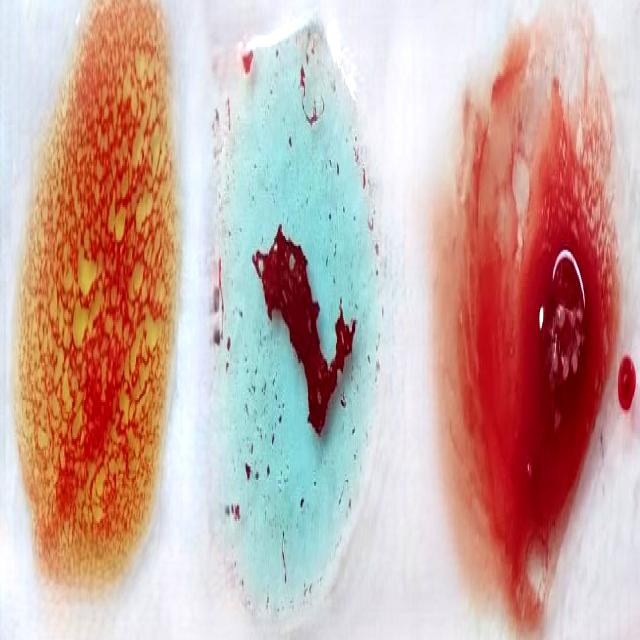A: (220, 31, 376, 615)
B: (14, 24, 170, 593)
D: (461, 63, 618, 640)
